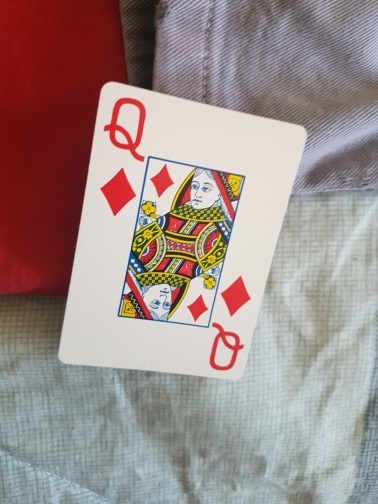queen: (57, 77, 307, 378)
